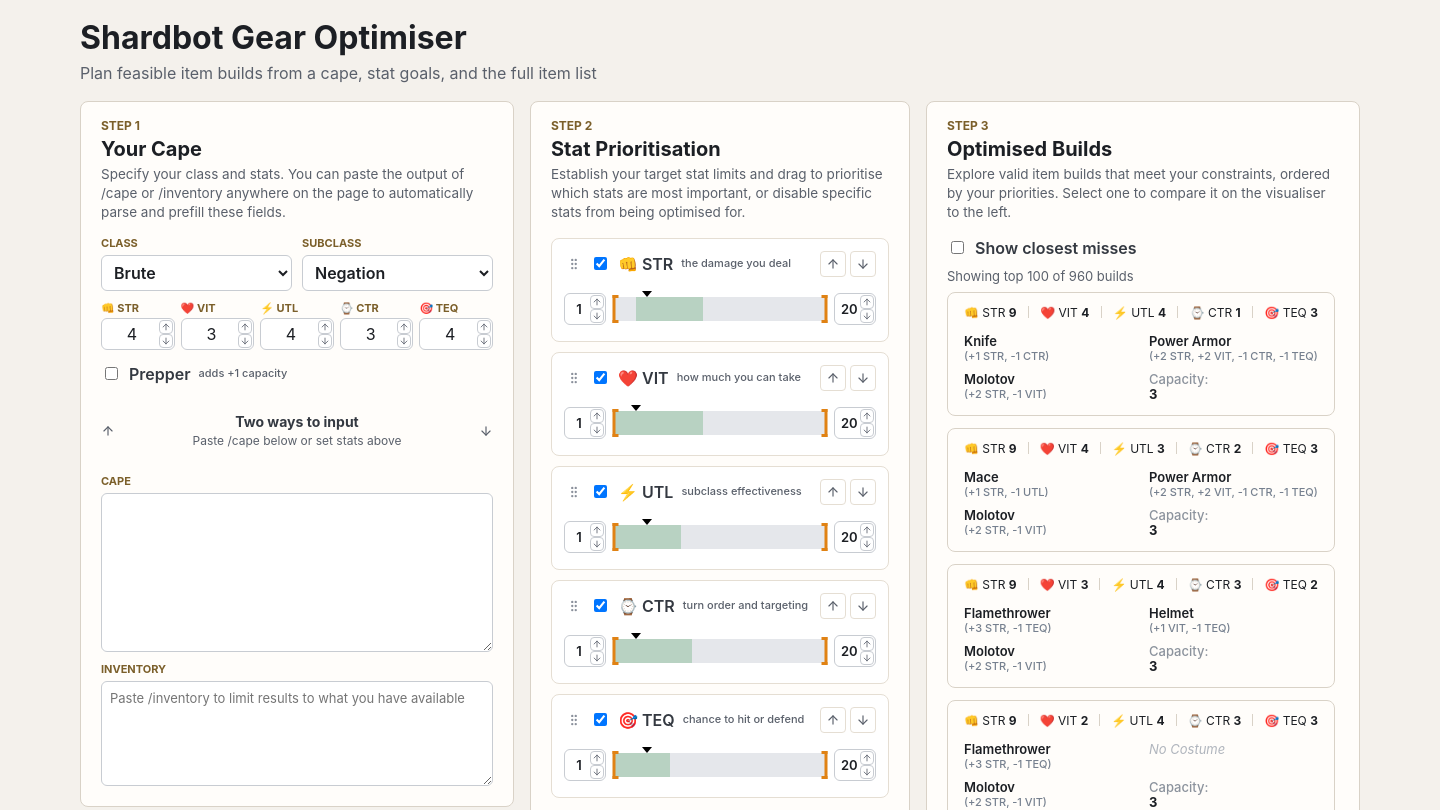
Test: App › limits result builds after a valid inventory paste is committed
Select "Tinker" in the dropdown labelled "Class" at [196, 273], box top-left (101, 255), bottom-right (292, 291)
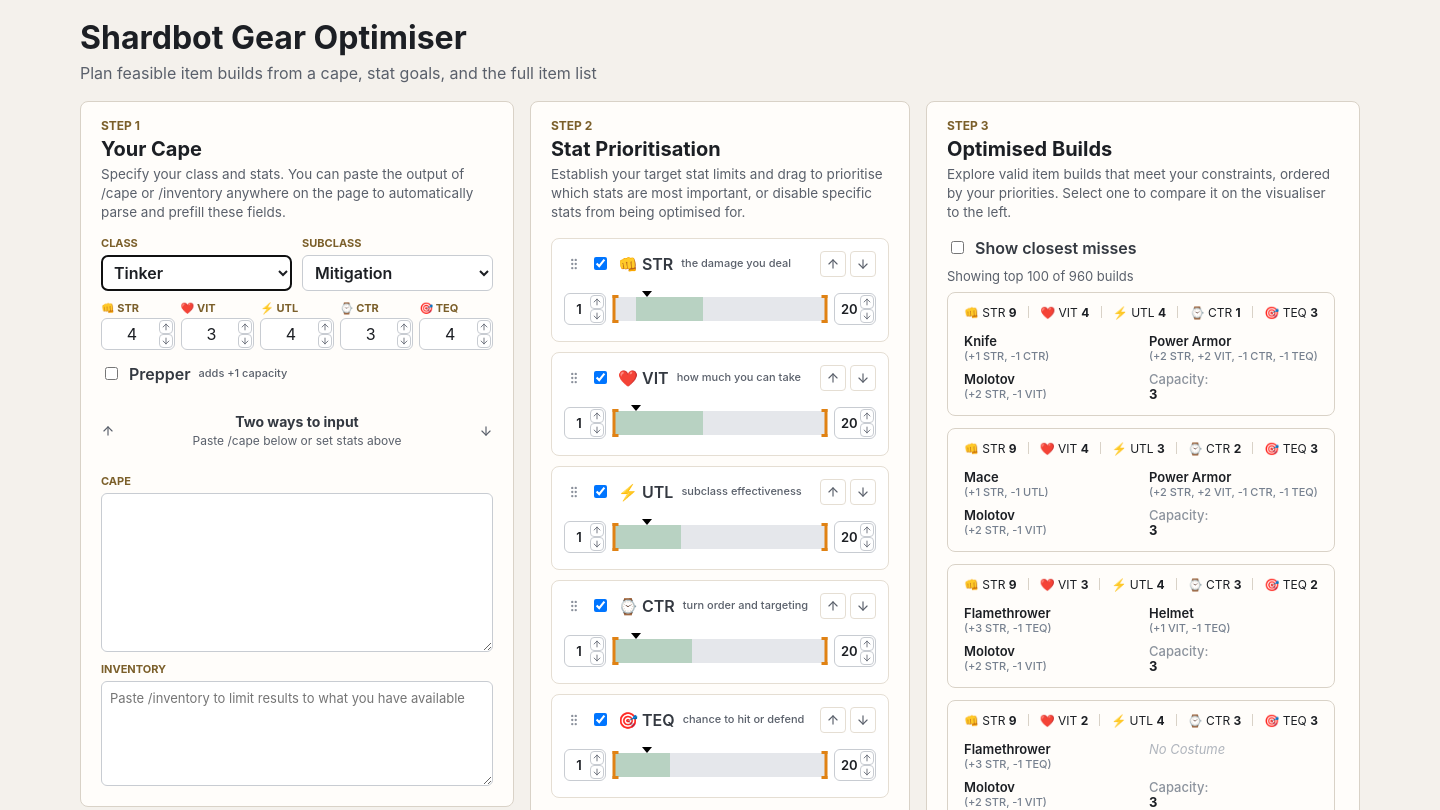
Select "Combat" in the dropdown labelled "Subclass" at [398, 273], box top-left (302, 255), bottom-right (493, 291)
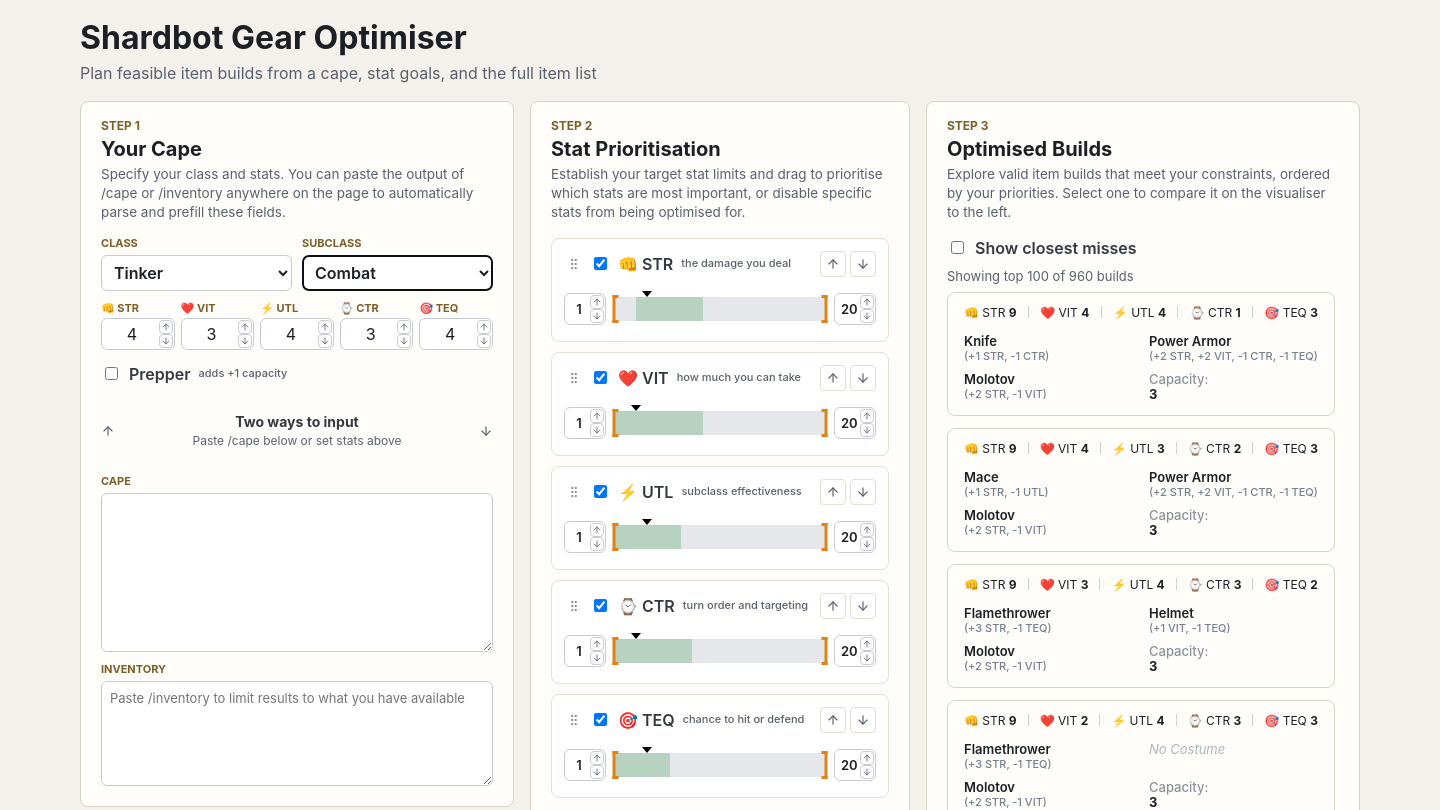
Type "Pistol" into the text box labelled "Inventory" at [297, 733], box top-left (101, 681), bottom-right (493, 786)
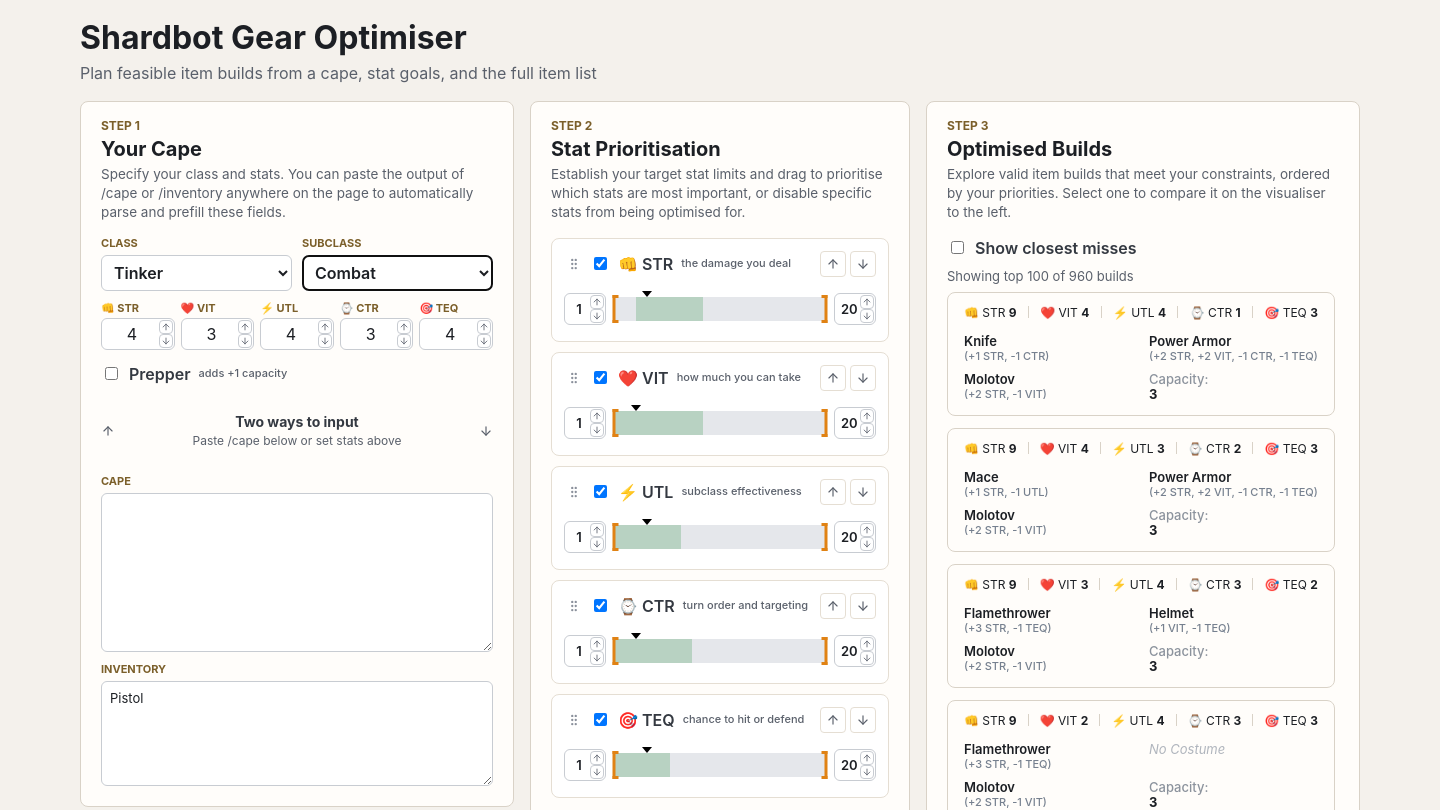
Leave the text box labelled "Inventory", box top-left (101, 681), bottom-right (493, 786)
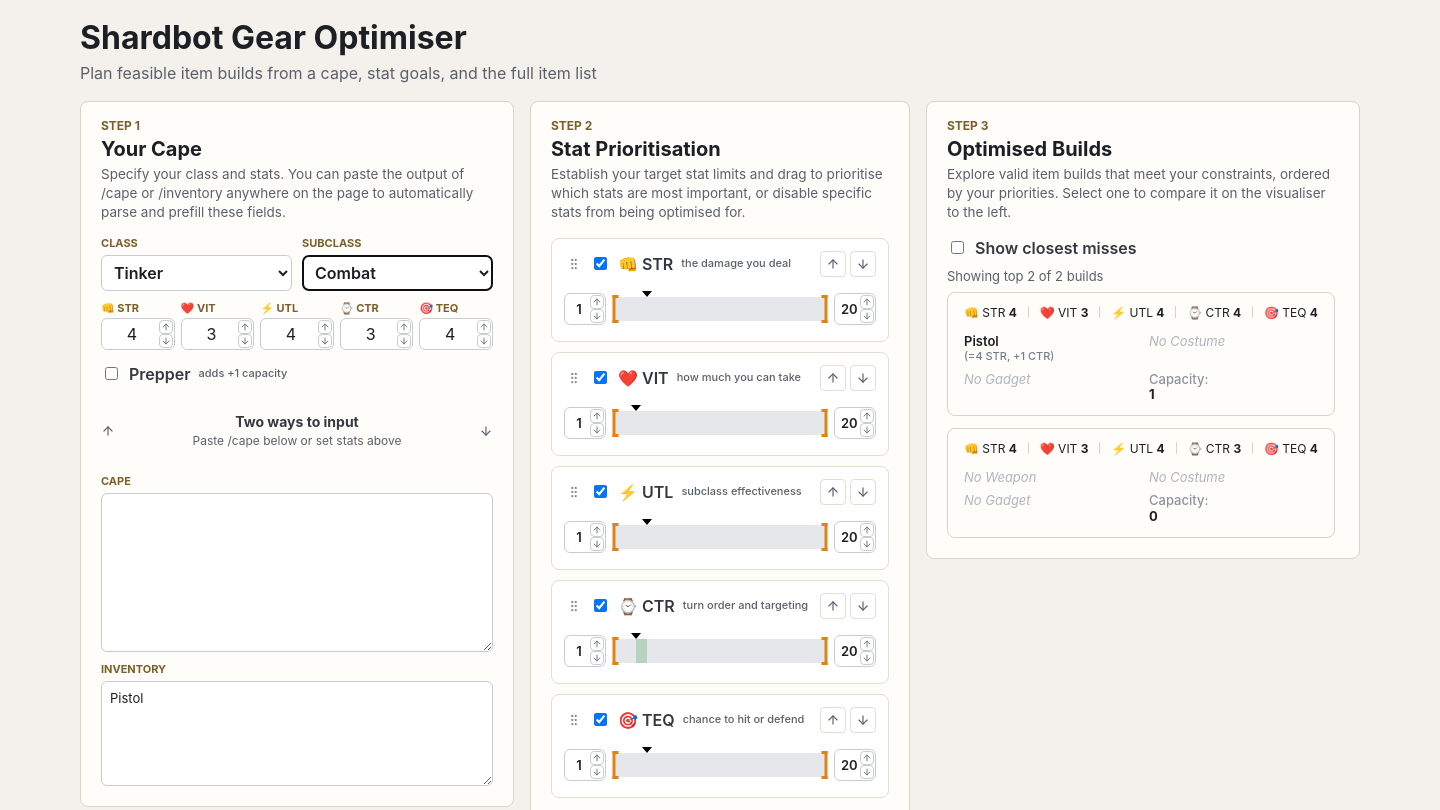
Now the button with aria-label "select build: pistol" is shown, box top-left (947, 292), bottom-right (1335, 416)
